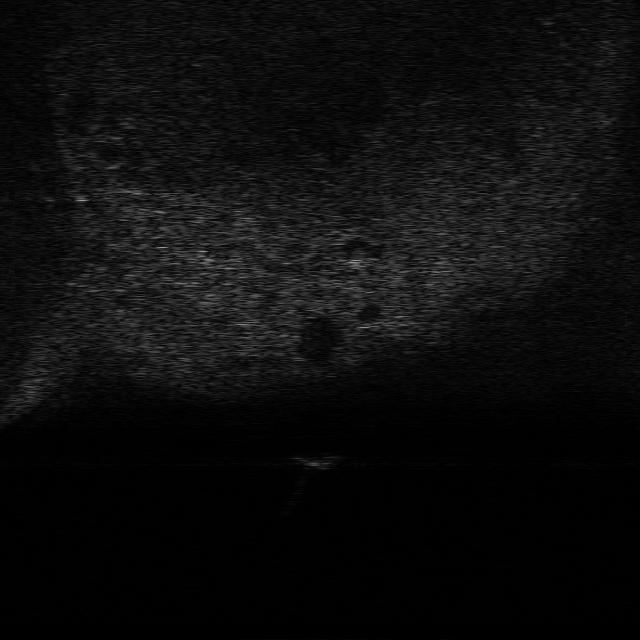cube: (292, 448, 342, 470)
